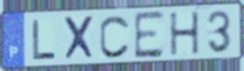3: (206, 9, 233, 55)
C: (98, 13, 132, 60)
E: (132, 9, 166, 61)
H: (168, 10, 202, 58)
L: (32, 18, 58, 62)
X: (61, 14, 97, 62)
